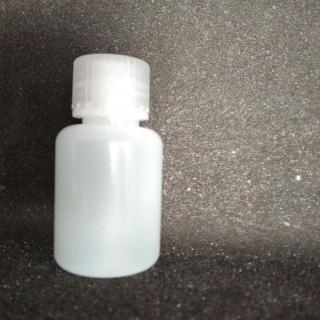Plastic-bottle: (51, 50, 166, 283)
